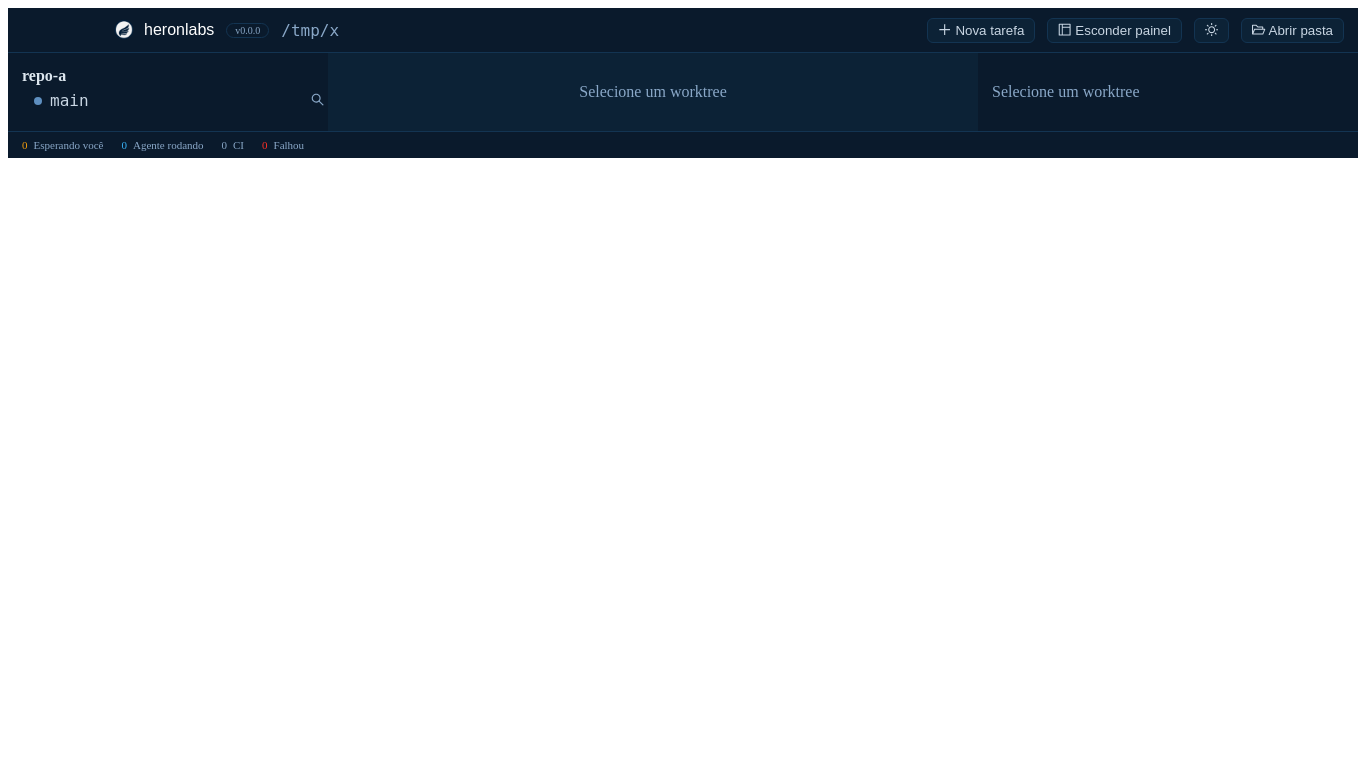
Test: AppShell › Should clear the error after a failed create is retried successfully
Click the button "Nova tarefa".
click(981, 30)  # box [927,18,1035,42]
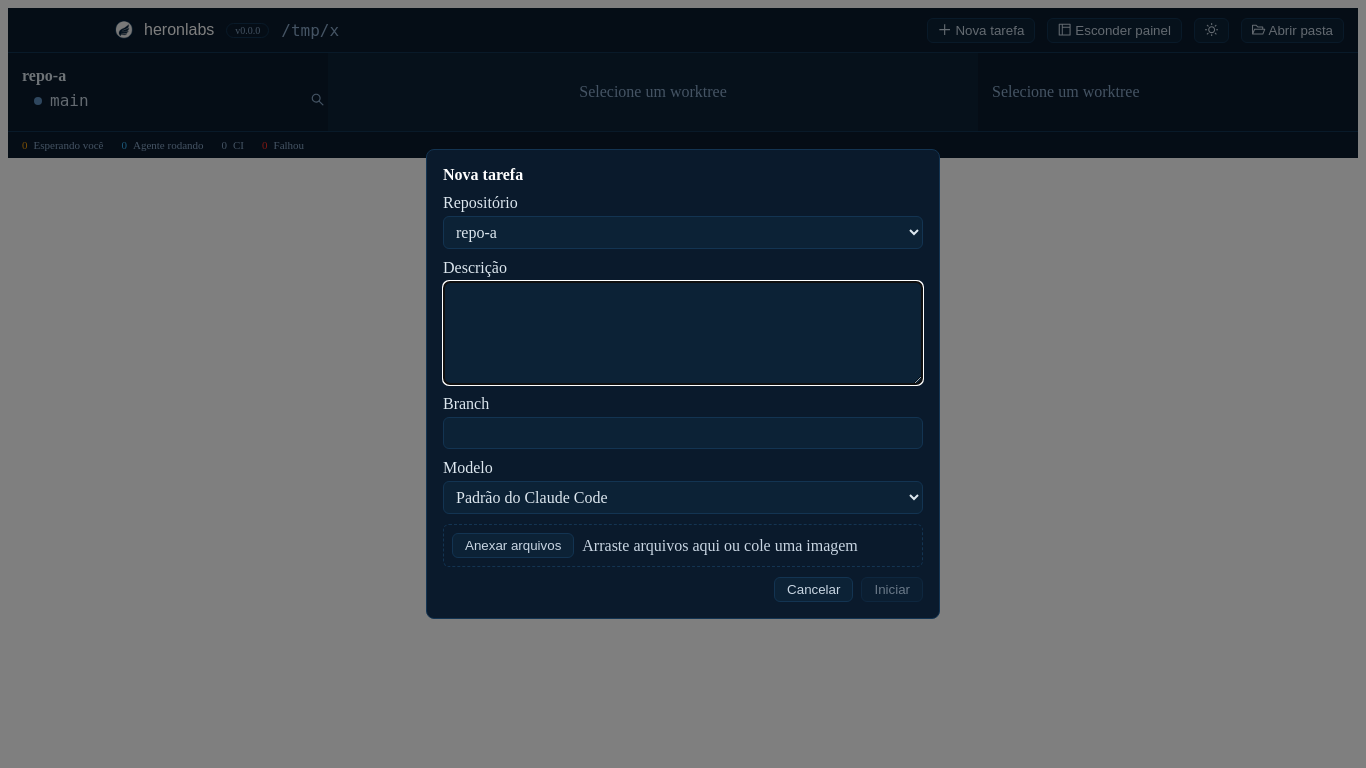
Type "x" into the text box labelled "Descrição".
click(683, 333); type("x")  # box [443,281,923,385]
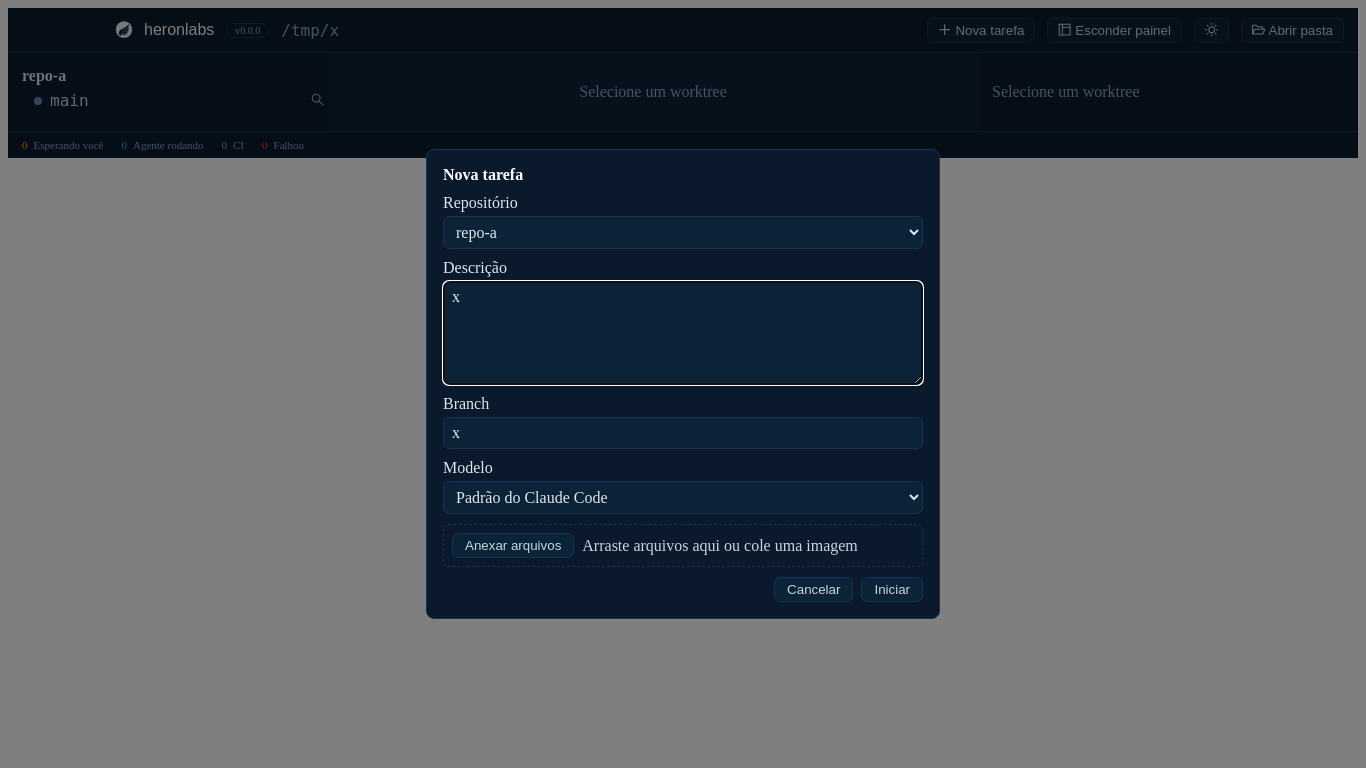
Click the button "Iniciar".
click(892, 590)  # box [861,577,923,602]
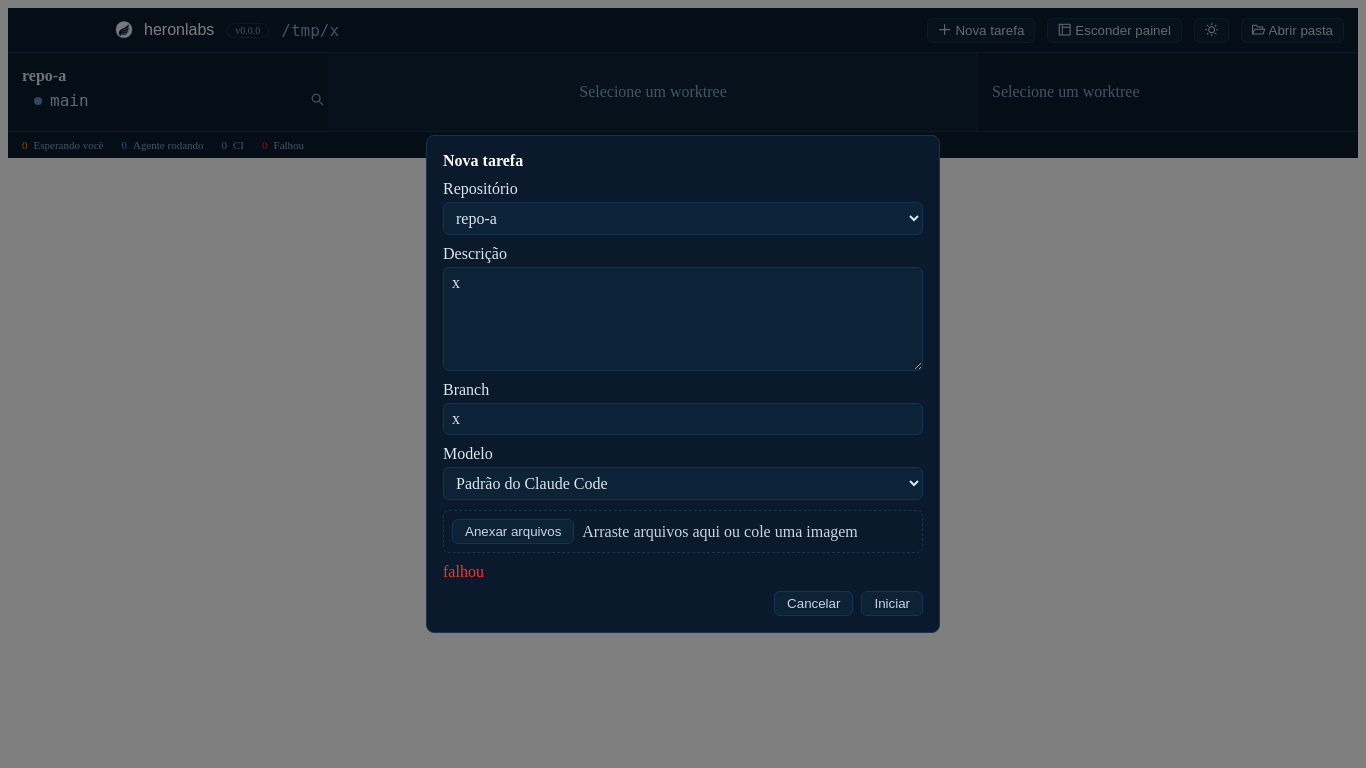
expect the message reads "falhou": met, box [443,563,484,580]
Click the button "Iniciar".
click(892, 604)  # box [861,591,923,616]
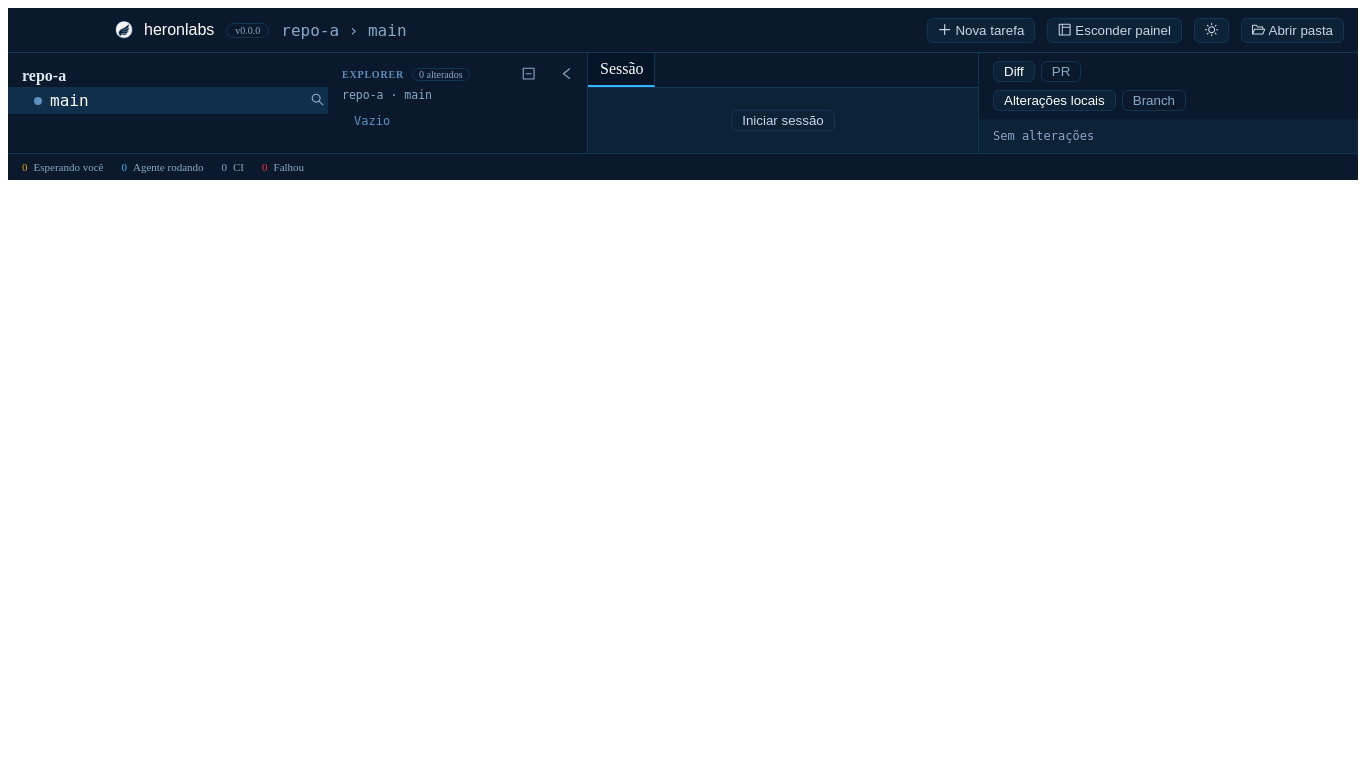
expect the dialog is gone: met
